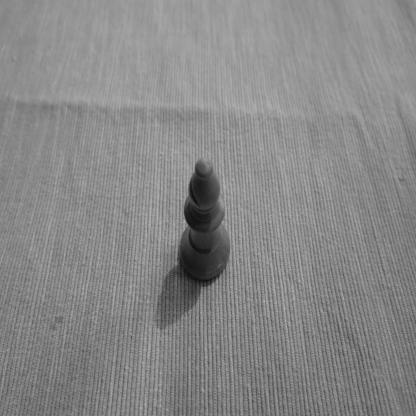white-knight: (178, 156, 231, 282)
